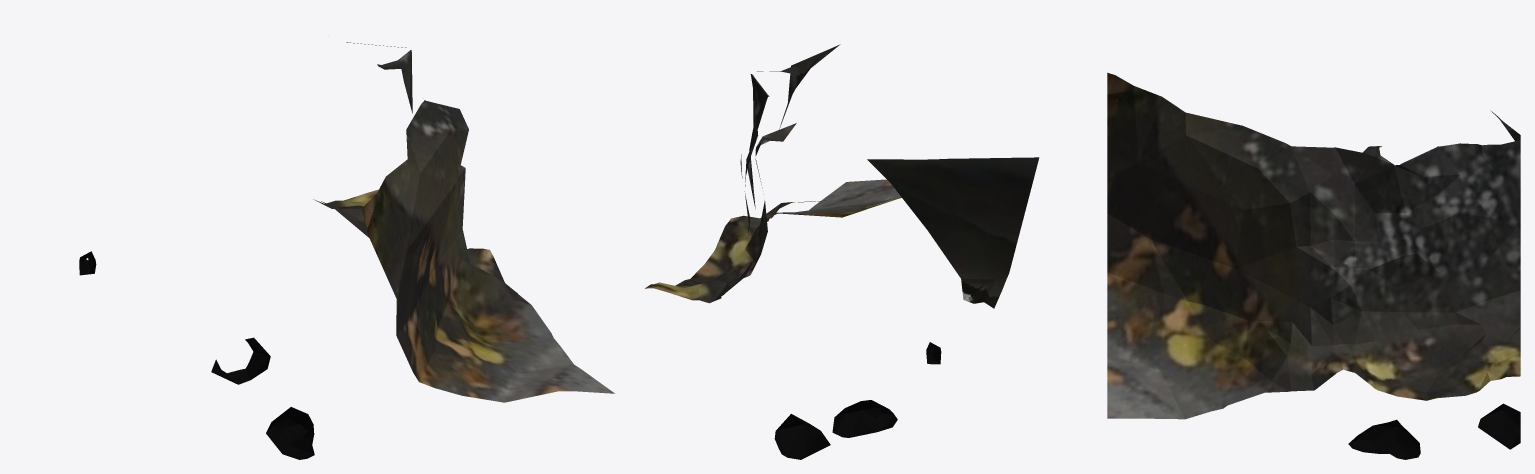
The picture shows the model from 3 angles, left to right: view 1: azimuth 30°, elevation 25°; view 2: azimuth 150°, elevation 25°; view 3: azimuth 270°, elevation 25°; orthographic projection. The views are drawn at different scales.
Size of the model in its own units: 0.8374 by 0.7695 by 0.8374.
Materials: 2 (2 with a texture image).
